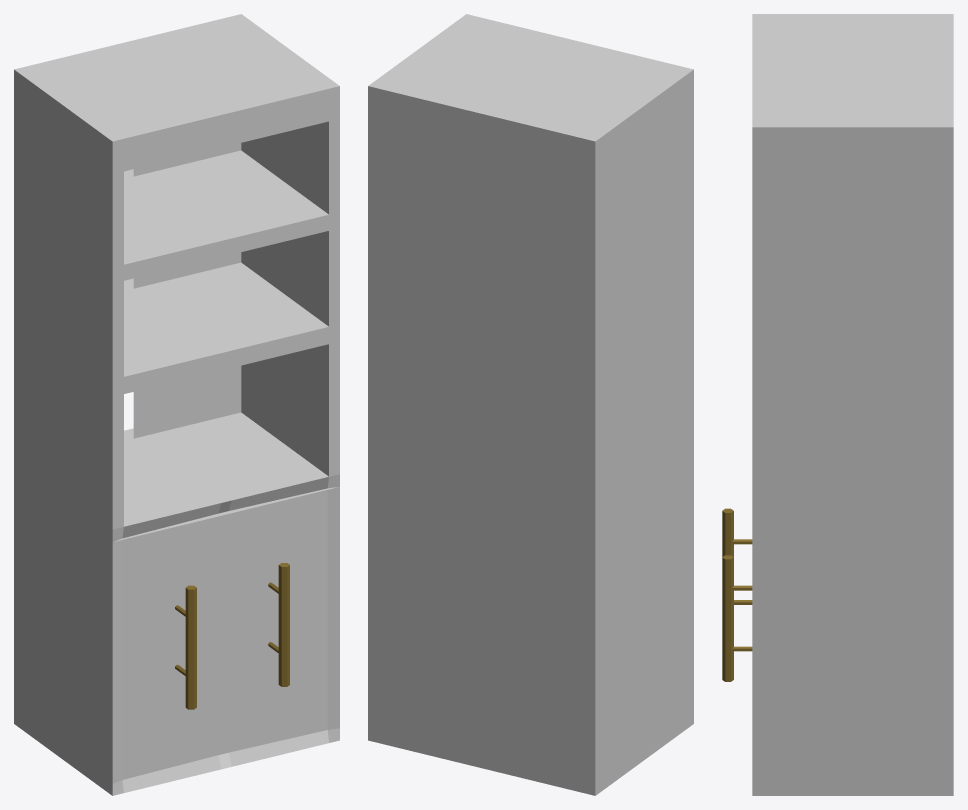
The model's file is tall-cabinet.glb.
3 views of the same model, side by side, from view 1: azimuth 30°, elevation 25°; view 2: azimuth 150°, elevation 25°; view 3: azimuth 270°, elevation 25° (orthographic). The views are drawn at different scales.
Visible parts, largest first — view 1: Cabinet; view 2: Cabinet; view 3: Cabinet.
Part boxes in pixels (x1=…): Cabinet: x1=14, y1=14, x2=339, y2=795; Cabinet: x1=368, y1=14, x2=693, y2=795; Cabinet: x1=722, y1=14, x2=953, y2=795.
Bounding box in the file's own units: 1.6 × 4.4 × 1.38.
